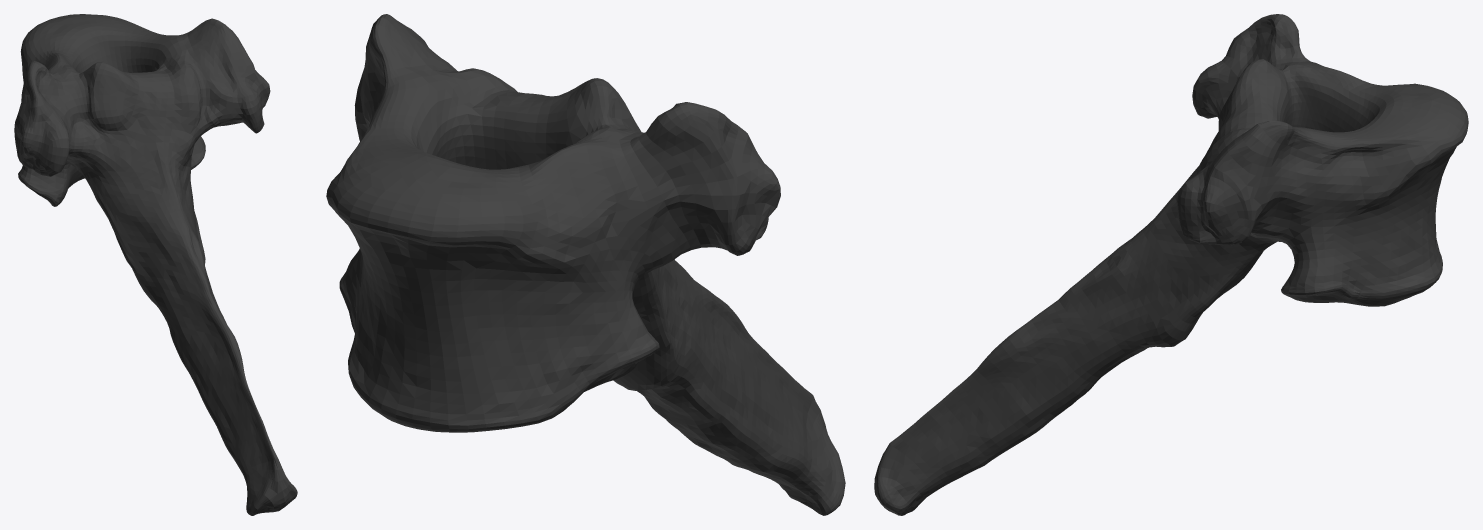
3 renders of one model, left to right at view 1: azimuth 30°, elevation 25°; view 2: azimuth 150°, elevation 25°; view 3: azimuth 270°, elevation 25°, orthographic. The views are drawn at different scales.
Parts seen in each view (by area): view 1: t8_low; view 2: t8_low; view 3: t8_low.
Part boxes in pixels (x1,y1,x2,y2): t8_low: (14,14,297,515); t8_low: (326,14,845,515); t8_low: (874,14,1468,515).
Size of the model in its own units: 35.62 by 51.45 by 61.28.
Materials: 1 (1 with a texture image).
